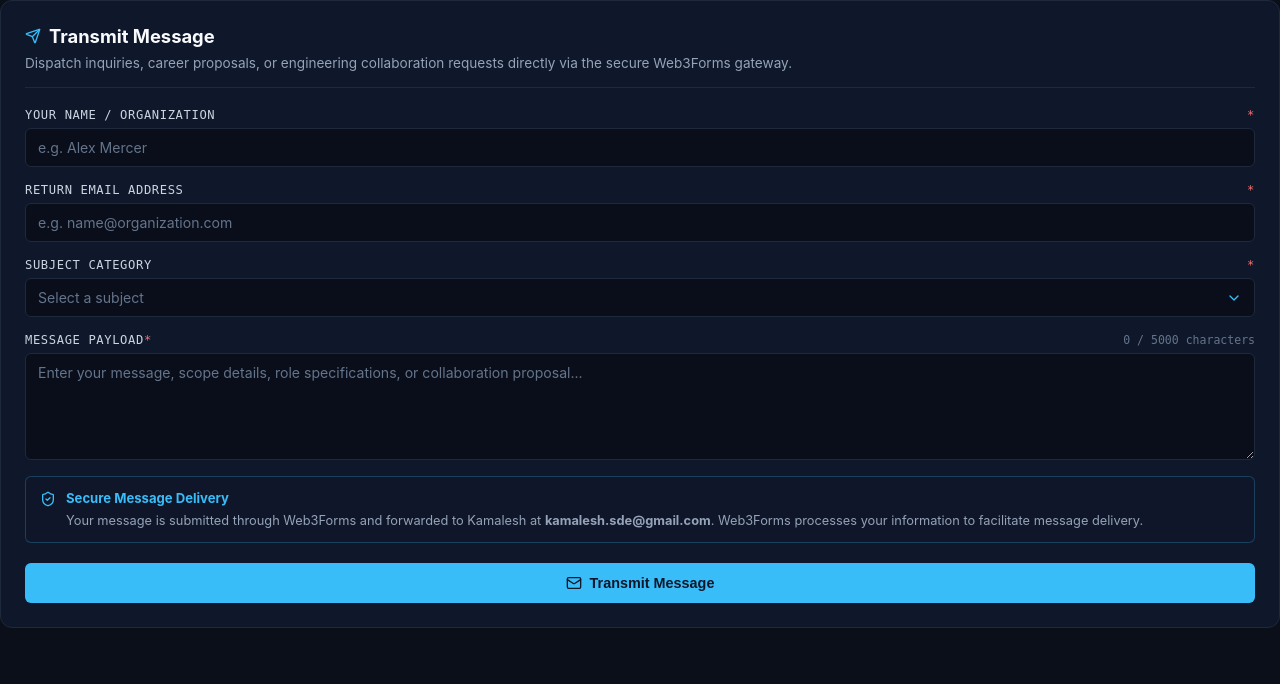
Scenario: KAI HQ Feature Enhancement Batch Test Suite › Feature 4 & 6: Communication Center Web3Forms Transmission & Disclaimer › preserves entered data on submission failure
In the field labelled "Your Name / Organization *": x=640, y=148 [25, 128, 1255, 167], type "Grace Hopper"
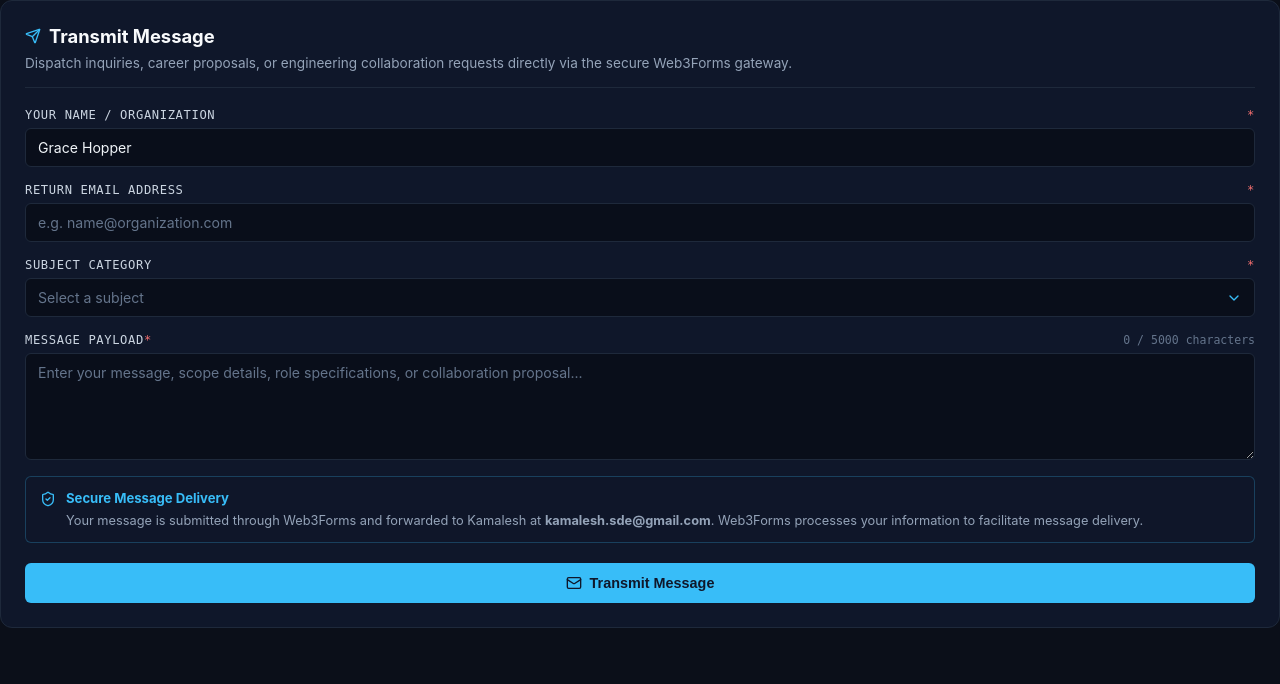
In the field labelled "Return Email Address *": x=640, y=223 [25, 203, 1255, 242], type "grace@example.com"
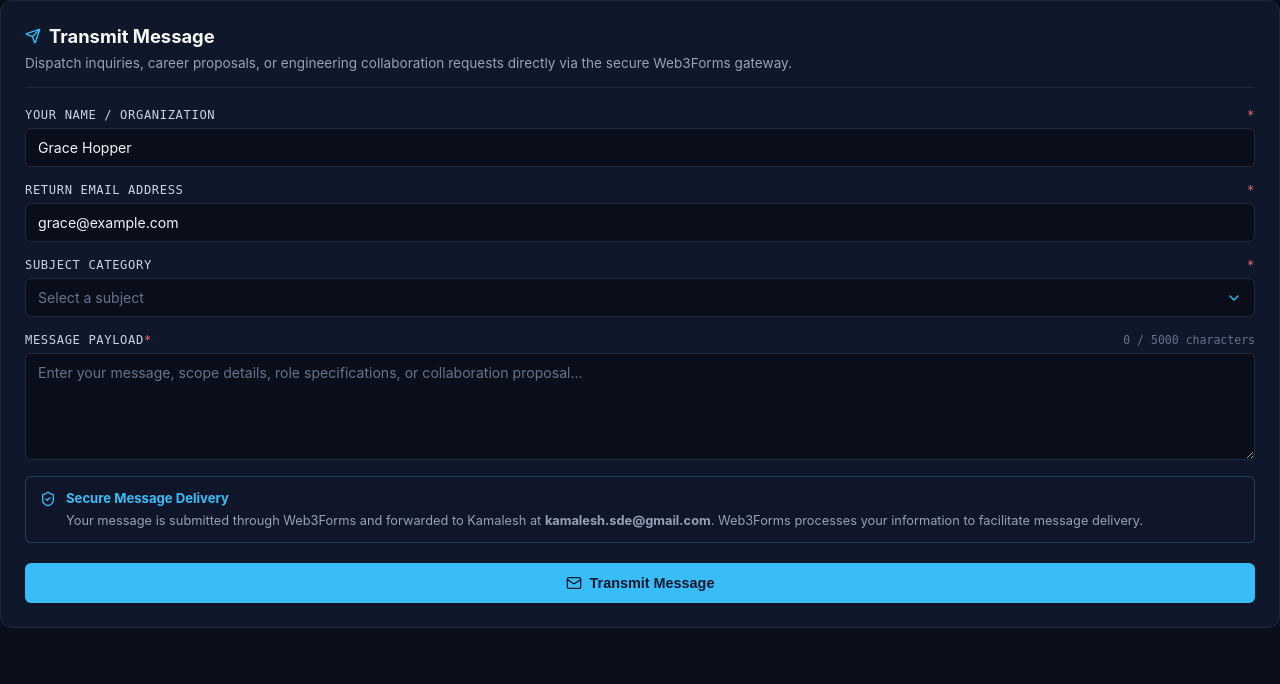
Select "Internship" in the dropdown labelled "Subject Category *": x=88, y=265 [25, 258, 1255, 272]
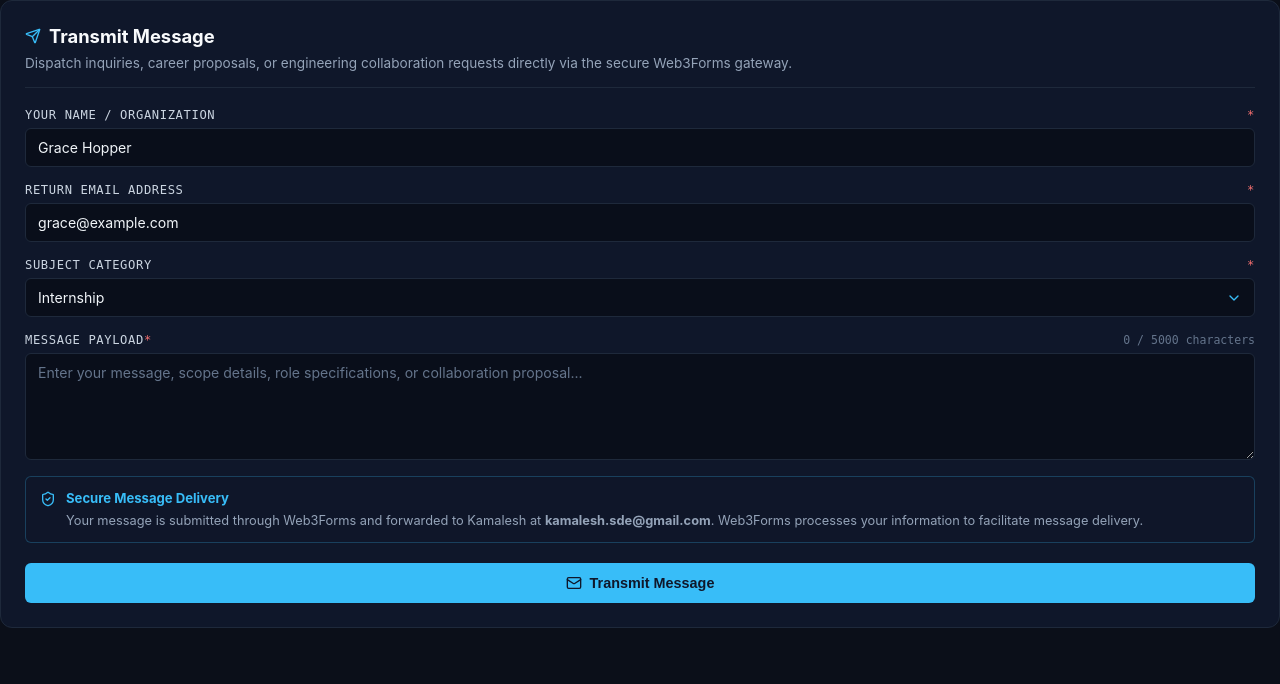
Replace the text in the text box labelled "Message Payload *" with "Testing failure recovery to ensure user input is preserved on error.": x=640, y=407 [25, 353, 1255, 460]
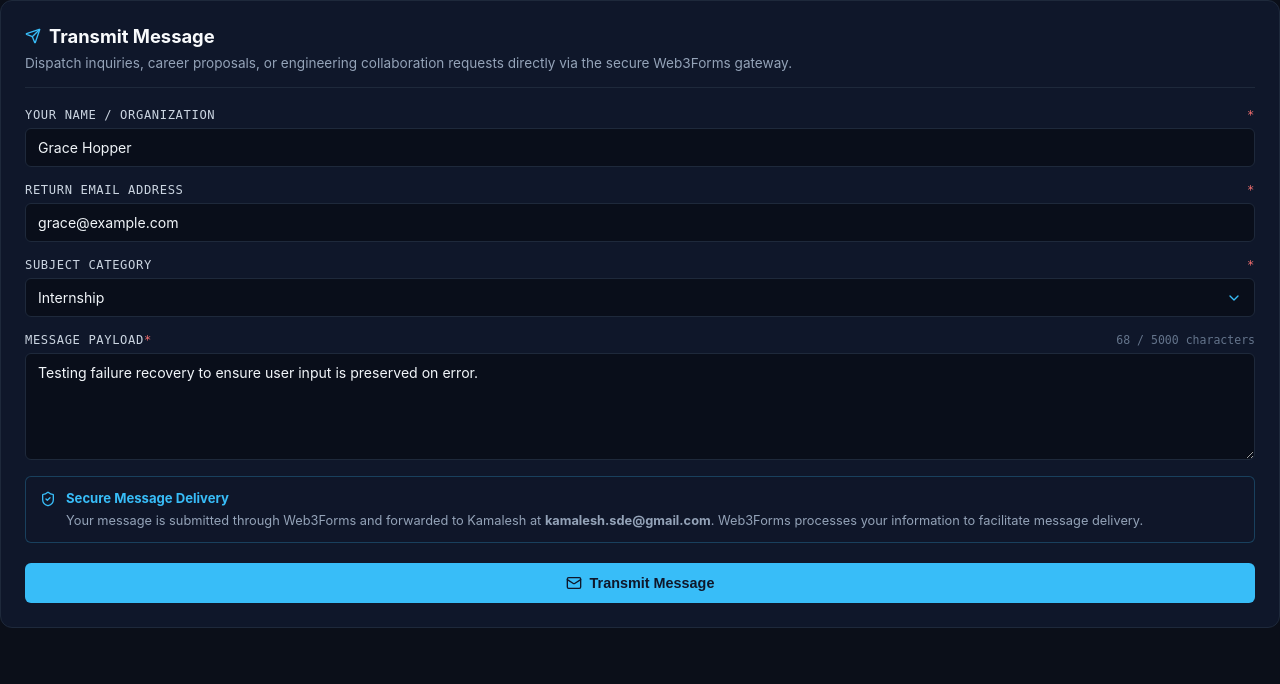
Click the button with aria-label "Transmit Message via Web3Forms": x=640, y=583 [25, 563, 1255, 603]
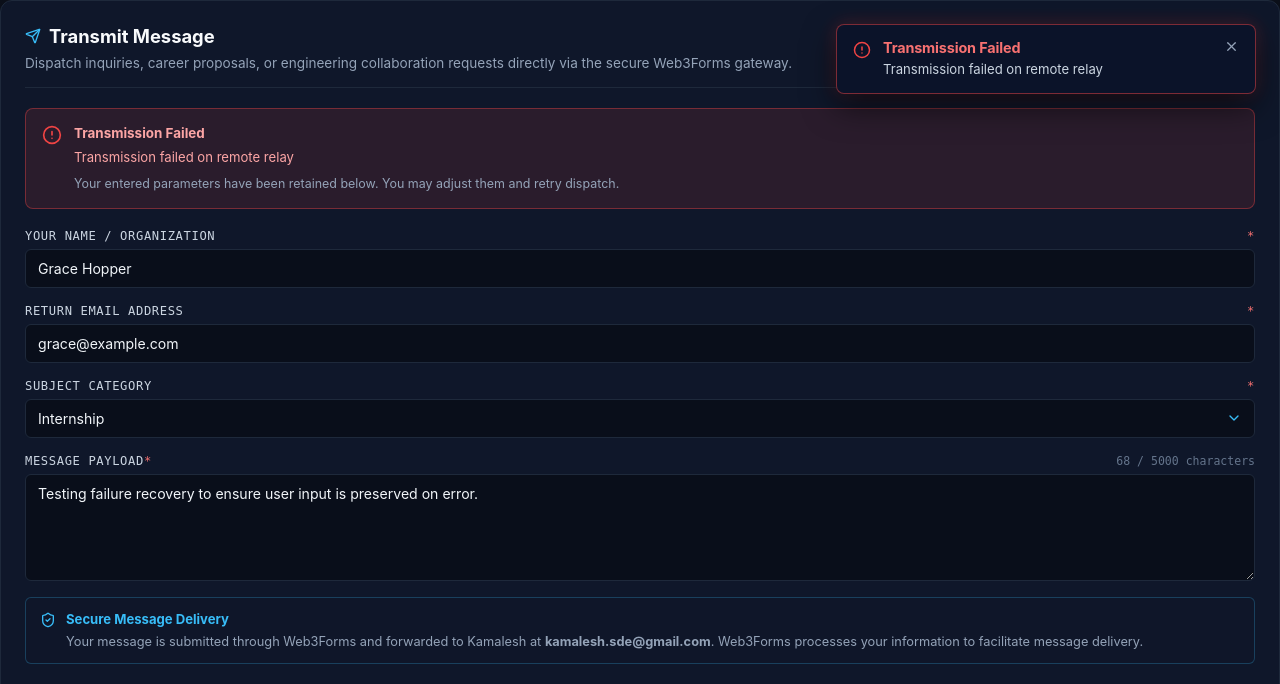
Now the 1st text "Transmission Failed" is shown, box [883, 39, 1020, 56]
